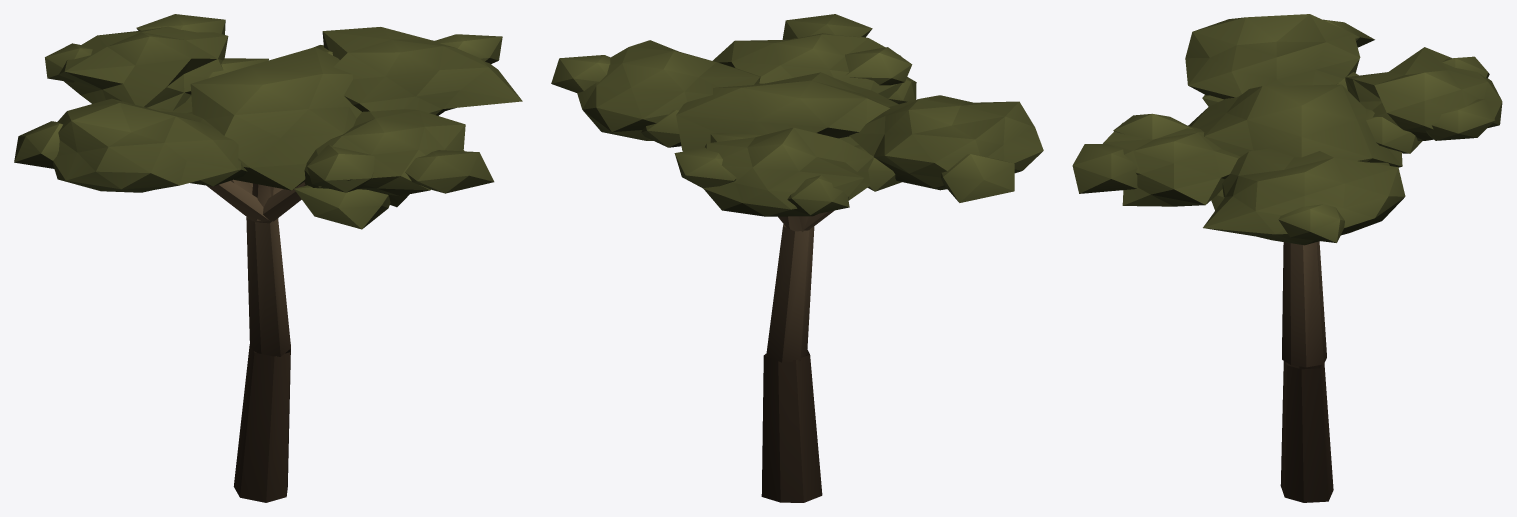
Rendered from baum_trocken1.glb.
3 views of the same model, side by side, from view 1: azimuth 30°, elevation 25°; view 2: azimuth 150°, elevation 25°; view 3: azimuth 270°, elevation 25° (orthographic). The views are drawn at different scales.
Parts seen in each view (by area): view 1: baum_trocken1; view 2: baum_trocken1; view 3: baum_trocken1.
Boxes of the visible parts, x1,y1,x2,y2 form: baum_trocken1: (14,14,522,502); baum_trocken1: (551,14,1043,502); baum_trocken1: (1072,14,1502,502).
Bounding box in the file's own units: 6.47 × 5.42 × 5.33.
